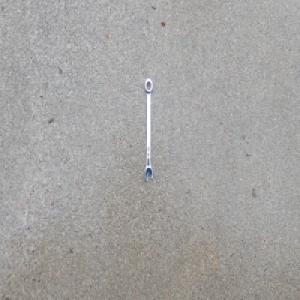Wrench: (144, 77, 153, 182)
